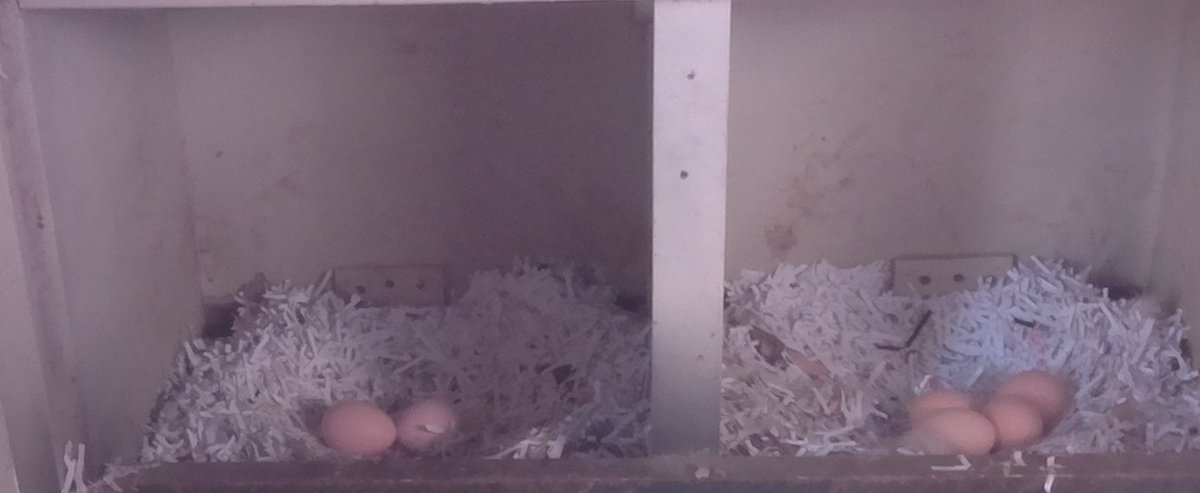egg: (317, 396, 404, 464), (393, 396, 470, 462), (991, 363, 1077, 418), (909, 406, 1004, 452), (975, 393, 1053, 446), (906, 382, 974, 424)
